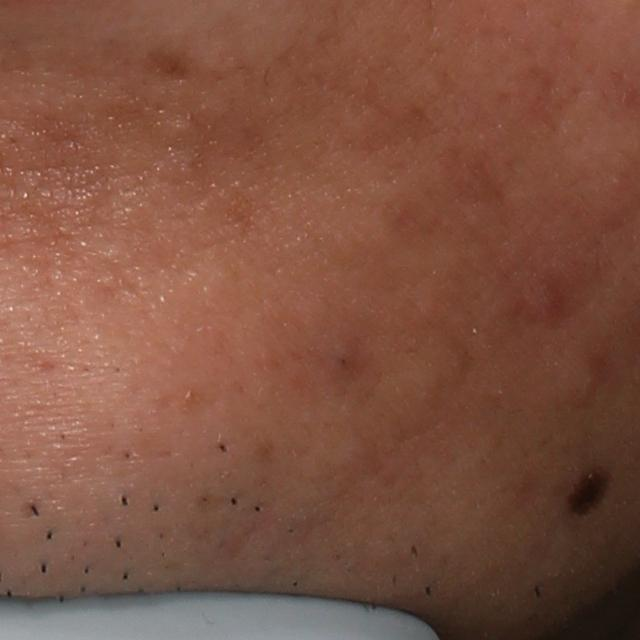nevus: (567, 464, 613, 516)
